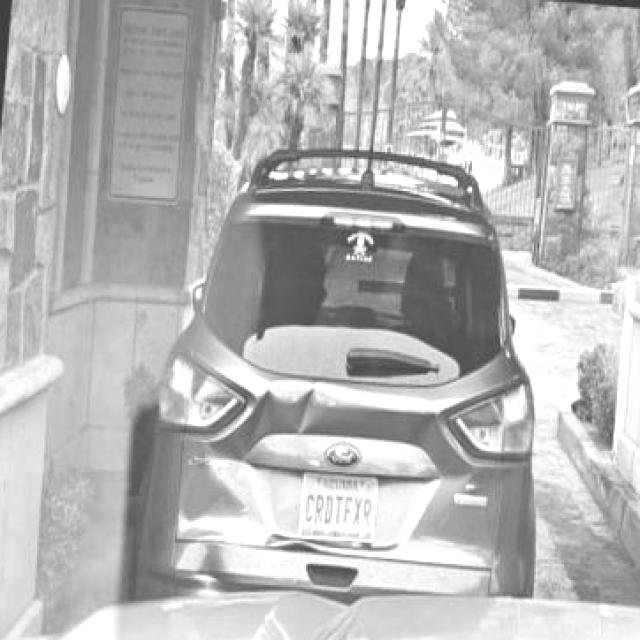licenseplate: (295, 468, 377, 543)
